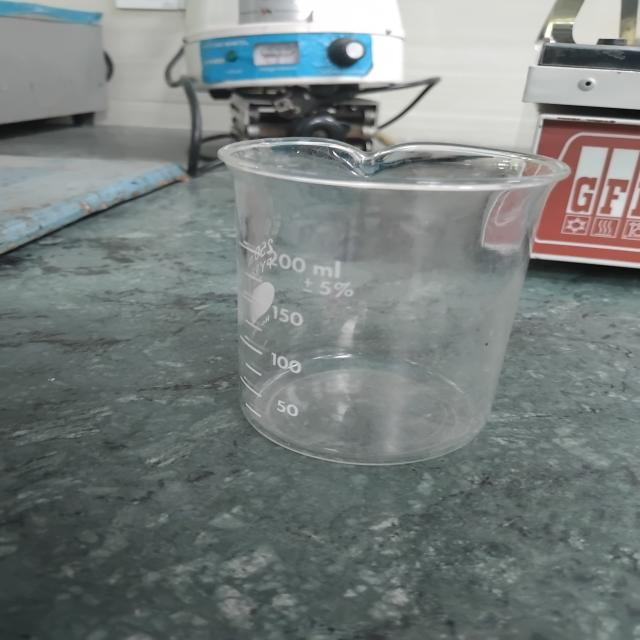Beaker: (200, 111, 570, 484)
